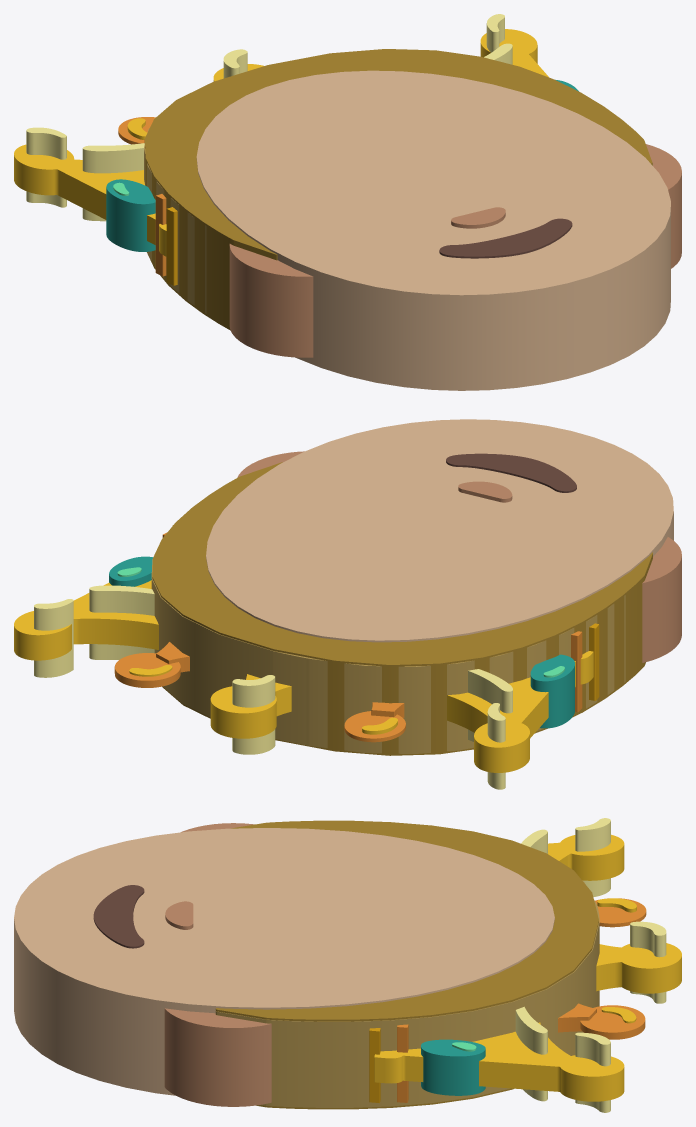
File: emoji_u1f934_1f3fc.glb
The picture shows the model from 3 angles, top to bottom: view 1: azimuth 30°, elevation 25°; view 2: azimuth 150°, elevation 25°; view 3: azimuth 270°, elevation 25°; orthographic projection. The views are drawn at different scales.
Visible parts, largest first — view 1: emoji_u1f934_1f3fc; view 2: emoji_u1f934_1f3fc; view 3: emoji_u1f934_1f3fc.
Part boxes in pixels (x1=…): emoji_u1f934_1f3fc: x1=14, y1=14, x2=681, y2=390; emoji_u1f934_1f3fc: x1=14, y1=419, x2=681, y2=789; emoji_u1f934_1f3fc: x1=14, y1=818, x2=681, y2=1112.
Bounding box in the file's own units: 0.0292 × 0.0056 × 0.0338.
